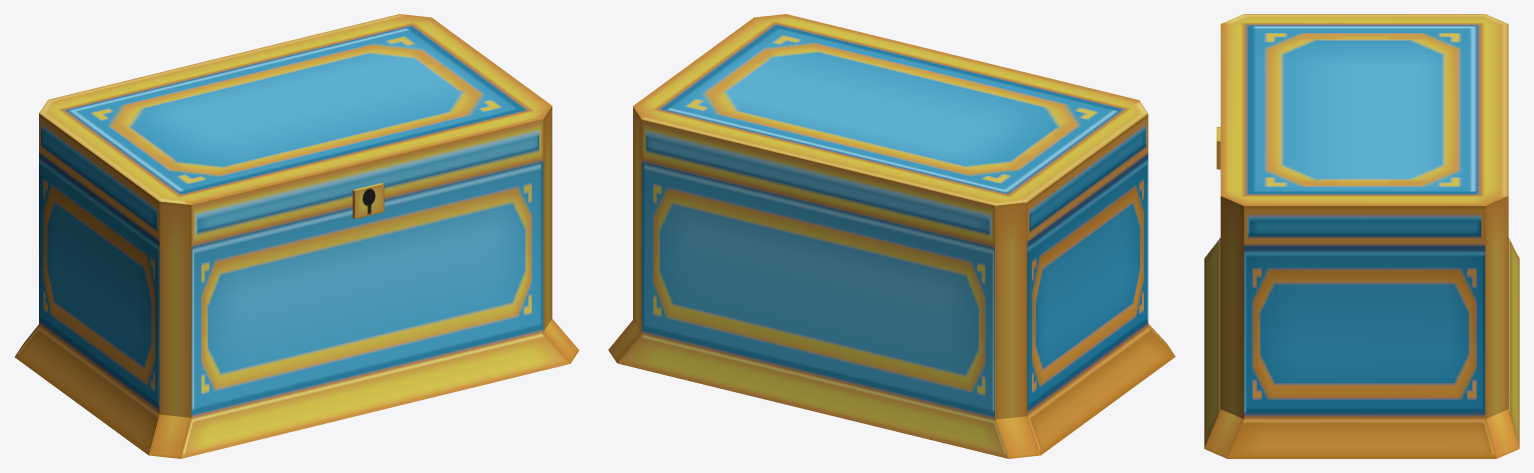
The model's file is S3 Parts_fix_box.FBX.
The picture shows the model from 3 angles, left to right: view 1: azimuth 30°, elevation 25°; view 2: azimuth 150°, elevation 25°; view 3: azimuth 270°, elevation 25°; orthographic projection.
Visible parts, largest first — view 1: Object161; view 2: Object161; view 3: Object161.
Part boxes in pixels (<box>): Object161: <box>15,14,579,458</box>; Object161: <box>608,14,1175,458</box>; Object161: <box>1204,14,1519,458</box>.
Size of the model in its own units: 1.44 by 0.7783 by 0.9127.
